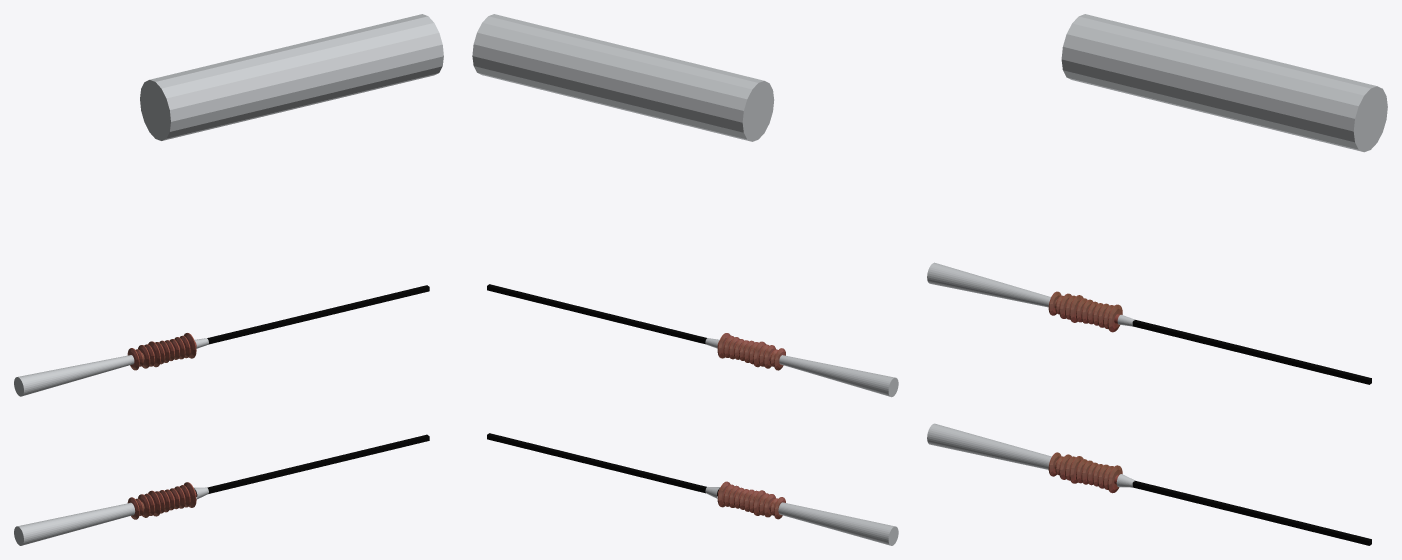
The model's file is moretop_-1_1.obj.
3 views of the same model, side by side, from view 1: azimuth 30°, elevation 25°; view 2: azimuth 150°, elevation 25°; view 3: azimuth 330°, elevation 25° (orthographic). The views are drawn at different scales.
Parts seen in each view (by area): view 1: zd, chain.002, chain.001; view 2: zd, chain.002, chain.001; view 3: zd, chain.002, chain.001.
Part boxes in pixels (<box>): zd: <box>140,14,443,140</box>; chain.002: <box>14,333,208,545</box>; chain.001: <box>195,285,429,496</box>; zd: <box>472,14,774,141</box>; chain.002: <box>705,333,898,545</box>; chain.001: <box>487,284,718,496</box>; zd: <box>1061,14,1387,152</box>; chain.002: <box>927,262,1135,493</box>; chain.001: <box>1132,320,1371,545</box>.
Size of the model in its own units: 3 by 3.04 by 0.411.
Materials: 4 (4 with a texture image).
